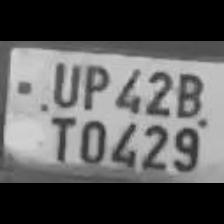0: (74, 114, 106, 164)
2: (138, 119, 168, 171), (141, 64, 170, 116)
4: (110, 62, 144, 114), (109, 116, 138, 168)
9: (168, 121, 200, 173)
B: (172, 68, 204, 116)
P: (76, 61, 110, 112)
T: (42, 112, 76, 164)
U: (46, 56, 80, 107)
